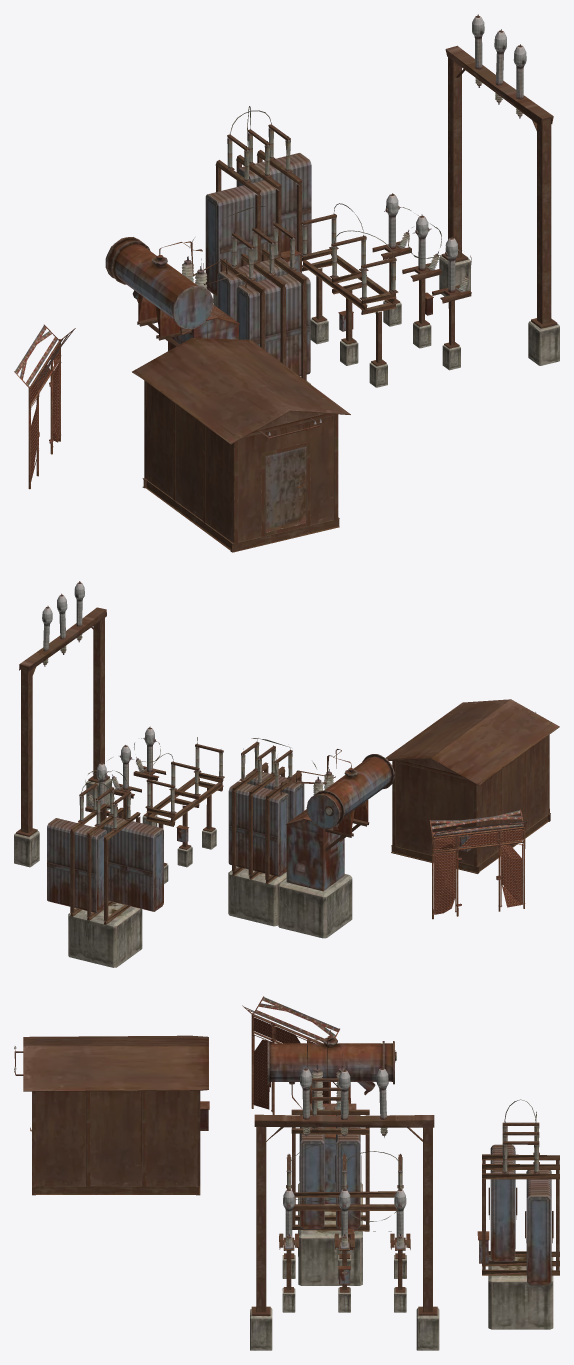
File: power_sub_big_1-map.glb
The picture shows the model from 3 angles, top to bottom: view 1: azimuth 30°, elevation 25°; view 2: azimuth 150°, elevation 25°; view 3: azimuth 270°, elevation 25°; orthographic projection. The views are drawn at different scales.
Parts seen in each view (by area): view 1: substation_b_LOD0, substation_d_LOD0, chainlink_fence_3x3_gate_LOD0; view 2: substation_b_LOD0, substation_d_LOD0, chainlink_fence_3x3_gate_LOD0; view 3: substation_b_LOD0, substation_d_LOD0, chainlink_fence_3x3_gate_LOD0.
Boxes of the visible parts, box(x1,y1,x2,y2) form: substation_b_LOD0: box(105, 14, 559, 552); substation_d_LOD0: box(132, 338, 350, 542); chainlink_fence_3x3_gate_LOD0: box(14, 324, 75, 489); substation_b_LOD0: box(14, 581, 550, 967); substation_d_LOD0: box(386, 699, 559, 865); chainlink_fence_3x3_gate_LOD0: box(429, 809, 527, 919); substation_b_LOD0: box(14, 1030, 559, 1350); substation_d_LOD0: box(23, 1035, 208, 1186); chainlink_fence_3x3_gate_LOD0: box(242, 996, 339, 1114).
Bounding box in the file's own units: 15.7 × 9.38 × 14.71.
7 materials, 7 textured.
